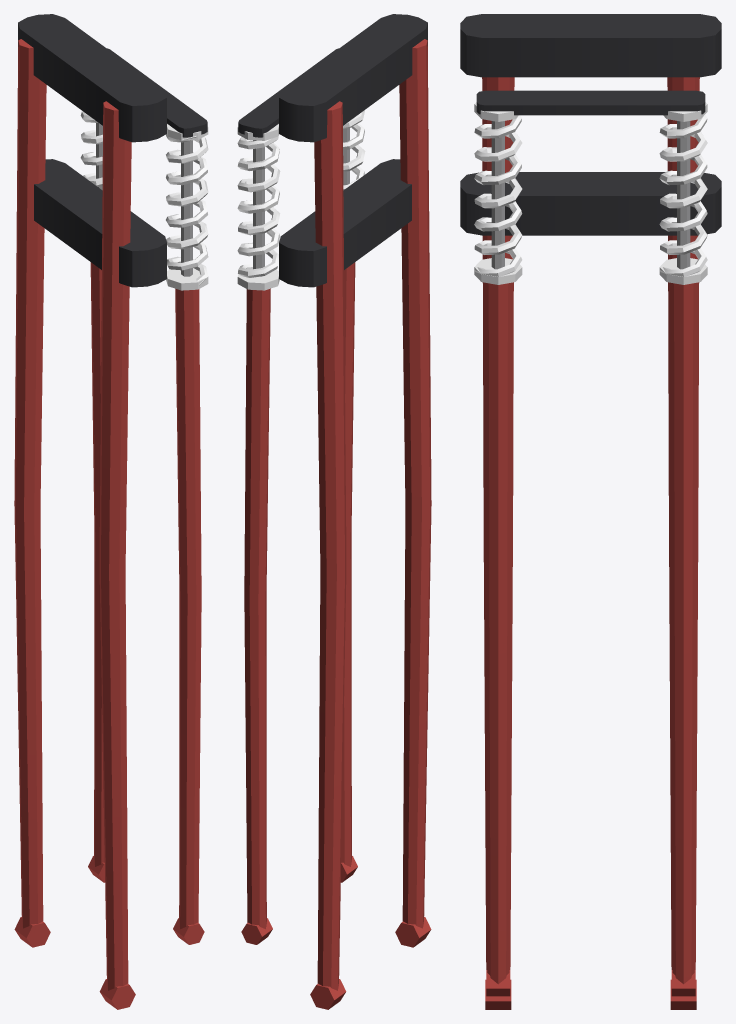
Rendered from springer_long_upper_lod1.glb.
3 renders of one model, left to right at view 1: azimuth 30°, elevation 25°; view 2: azimuth 150°, elevation 25°; view 3: azimuth 270°, elevation 25°, orthographic. The views are drawn at different scales.
Visible parts, largest first — view 1: springer_long_upper_lod1; view 2: springer_long_upper_lod1; view 3: springer_long_upper_lod1.
Boxes of the visible parts, x1,y1,x2,y2 form: springer_long_upper_lod1: [14, 14, 208, 1009]; springer_long_upper_lod1: [237, 14, 431, 1009]; springer_long_upper_lod1: [460, 14, 721, 1009].
Bounding box in the file's own units: 0.1217 × 1 × 0.24.
